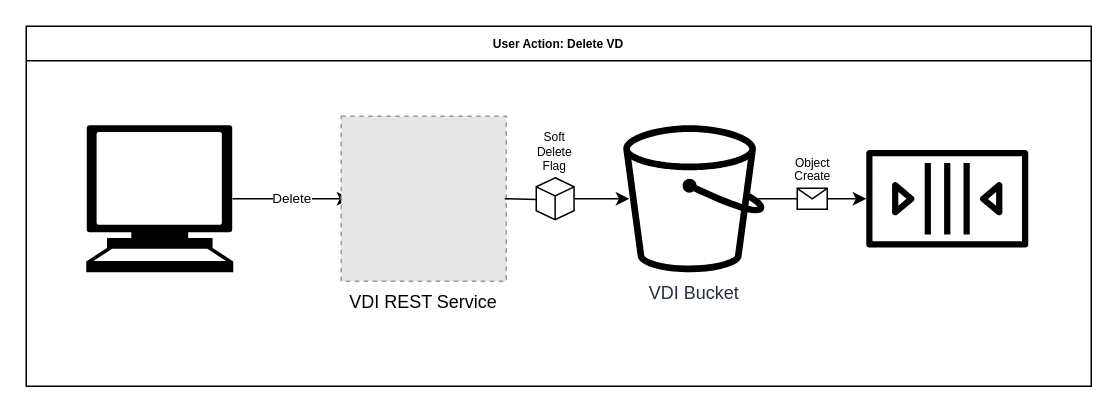
The diagram is 1118 pixels wide and 413 high, and some of its shapes have lost their labels. Grey dashed boxes stand in for pictures. Each missing label, with the box of its shape:
Global Message Queue: (866, 149, 1028, 247)
Web Client: (86, 124, 232, 272)
